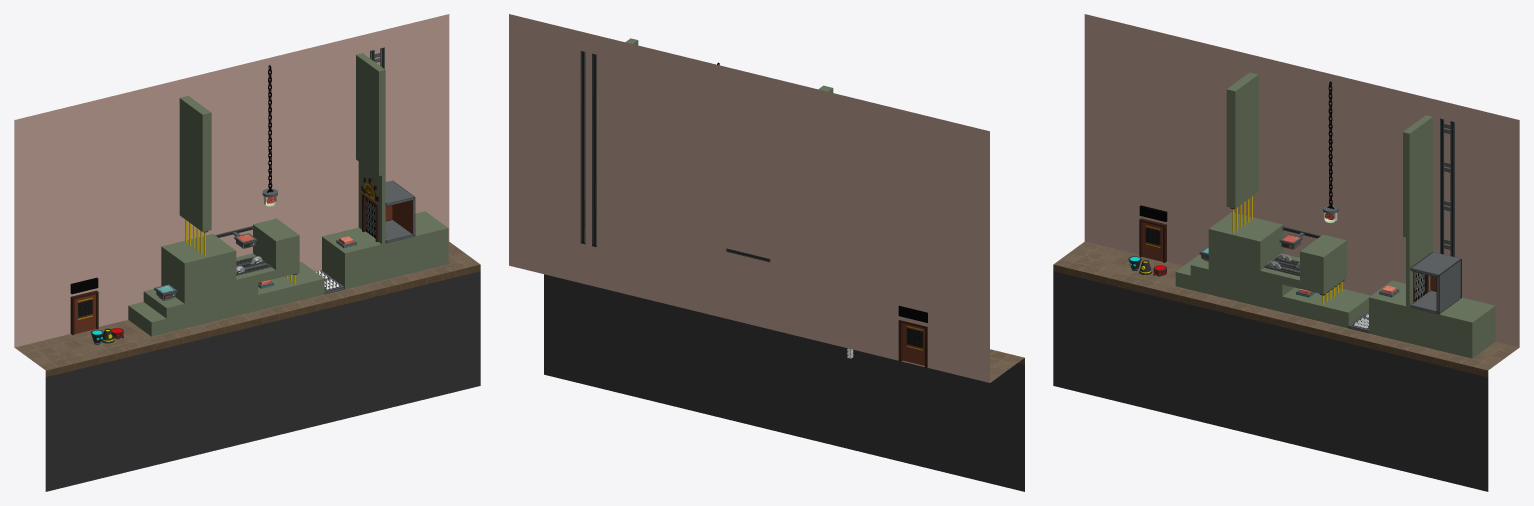
The model's file is level01.fbx.
3 renders of one model, left to right at view 1: azimuth 30°, elevation 25°; view 2: azimuth 150°, elevation 25°; view 3: azimuth 330°, elevation 25°, orthographic. The views are drawn at different scales.
Visible parts, largest first — view 1: pPlane13, pPlane10, platform, pPlane7, platform2, platform1, platform3, pPlane16, polySurface590, polySurface655; view 2: pPlane13, pPlane10, polySurface629, polySurface628, polySurface655, pPlane7; view 3: pPlane13, pPlane10, platform, pPlane7, platform2, platform1, platform3, pPlane16, polySurface590, polySurface655, polySurface629, polySurface628.
Part boxes in pixels (x1,y1,x2,y2): pPlane13: (14, 14, 449, 347); pPlane10: (45, 272, 480, 491); platform: (128, 218, 324, 336); pPlane7: (15, 241, 480, 370); platform2: (322, 211, 448, 289); platform1: (356, 53, 385, 244); platform3: (179, 95, 211, 231); pPlane16: (45, 264, 480, 377); polySurface590: (385, 180, 415, 243); polySurface655: (74, 294, 95, 333); pPlane13: (509, 14, 989, 382); pPlane10: (544, 274, 1024, 491); polySurface629: (580, 51, 585, 244); polySurface628: (592, 53, 596, 246); polySurface655: (902, 323, 925, 365); pPlane7: (901, 349, 1024, 382); pPlane13: (1084, 14, 1519, 347); pPlane10: (1053, 272, 1488, 491); platform: (1175, 212, 1370, 328); pPlane7: (1053, 241, 1518, 370); platform2: (1369, 280, 1495, 358); platform1: (1403, 115, 1432, 307); platform3: (1226, 72, 1258, 208); pPlane16: (1053, 264, 1488, 377); polySurface590: (1410, 252, 1461, 314); polySurface655: (1142, 222, 1162, 261); polySurface629: (1450, 121, 1454, 256); polySurface628: (1440, 118, 1444, 254).
Bounding box in the file's own units: 3378 × 2591 × 429.
